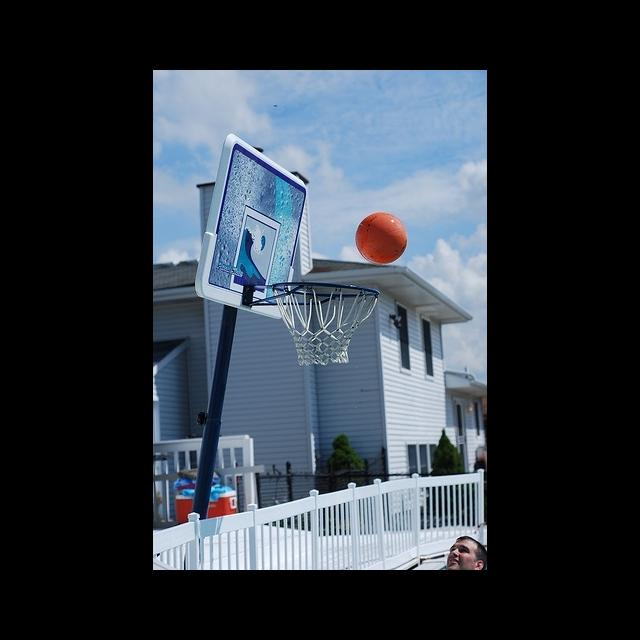basketball: (355, 213, 410, 266)
hoop: (272, 281, 381, 369)
